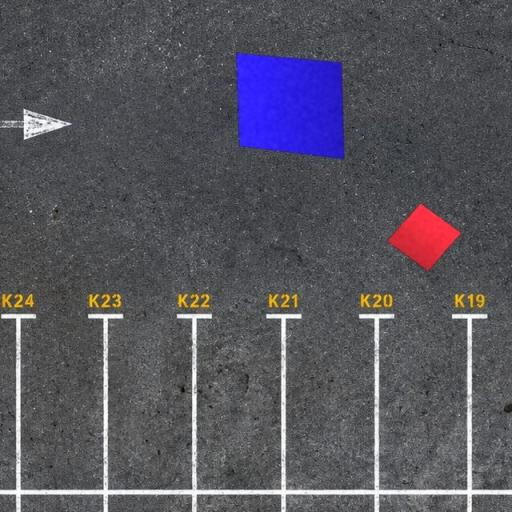BLUE_SQUARE: (235, 52, 345, 160)
RED_SQUARE: (386, 202, 462, 272)
